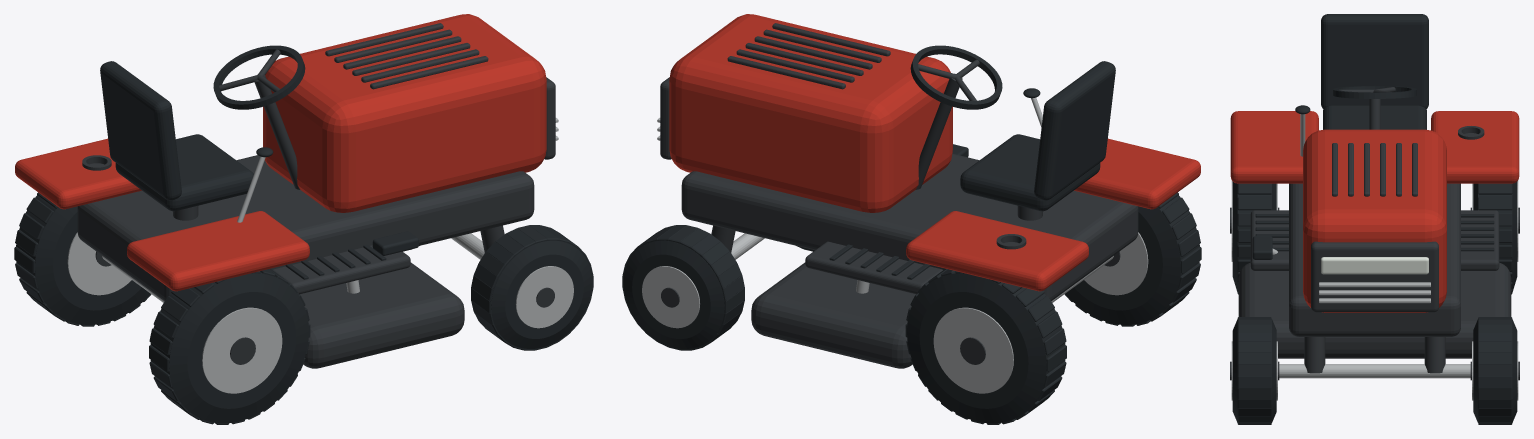
File: A-NEW-20261026-RIDING-MOWER-001_LOD0_R5.fbx
3 views of the same model, side by side, from view 1: azimuth 30°, elevation 25°; view 2: azimuth 150°, elevation 25°; view 3: azimuth 270°, elevation 25° (orthographic). The views are drawn at different scales.
Visible parts, largest first — view 1: sloping hood, main chassis, treaded tire.002, wide low mower deck, rear fender, open bucket back, treaded tire.003, treaded tire, rear fender.001, wheel rim.004, seat cushion, foot platform (+13 smaller); view 2: sloping hood, main chassis, treaded tire.003, wide low mower deck, rear fender.001, open bucket back, treaded tire.002, treaded tire.001, rear fender, wheel rim.007, seat cushion, foot platform.001 (+12 smaller); view 3: sloping hood, open bucket back, wide low mower deck, main chassis, front fascia, rear fender, rear fender.001, wheel axle, seat cushion, broad headlamp, foot platform.001, foot platform (+41 smaller).
Part boxes in pixels (<box>): sloping hood: <box>263,14,546,212</box>; main chassis: <box>77,155,534,301</box>; treaded tire.002: <box>150,272,308,423</box>; wide low mower deck: <box>300,262,464,368</box>; rear fender: <box>127,211,309,291</box>; open bucket back: <box>100,61,181,200</box>; treaded tire.003: <box>16,195,150,324</box>; treaded tire: <box>491,240,592,348</box>; rear fender.001: <box>15,138,141,209</box>; wheel rim.004: <box>202,307,282,393</box>; seat cushion: <box>115,134,253,211</box>; foot platform: <box>273,245,410,294</box>; sloping hood: <box>669,14,952,212</box>; main chassis: <box>681,153,1138,301</box>; treaded tire.003: <box>907,272,1065,423</box>; wide low mower deck: <box>751,262,915,368</box>; rear fender.001: <box>906,211,1088,291</box>; open bucket back: <box>1034,61,1115,200</box>; treaded tire.002: <box>1065,195,1199,324</box>; treaded tire.001: <box>623,240,724,348</box>; rear fender: <box>1074,138,1200,209</box>; wheel rim.007: <box>933,307,1013,393</box>; seat cushion: <box>960,134,1100,211</box>; foot platform.001: <box>805,241,942,294</box>; sloping hood: <box>1303,129,1446,312</box>; open bucket back: <box>1321,14,1428,108</box>; wide low mower deck: <box>1238,262,1511,358</box>; main chassis: <box>1289,183,1460,336</box>; front fascia: <box>1311,241,1438,312</box>; rear fender: <box>1230,111,1318,183</box>; rear fender.001: <box>1431,111,1519,183</box>; wheel axle: <box>1279,364,1470,378</box>; seat cushion: <box>1323,105,1426,129</box>; broad headlamp: <box>1321,257,1428,274</box>; foot platform.001: <box>1461,210,1499,270</box>; foot platform: <box>1250,210,1288,270</box>.
Size of the model in its own units: 113 by 71.91 by 72.3.
